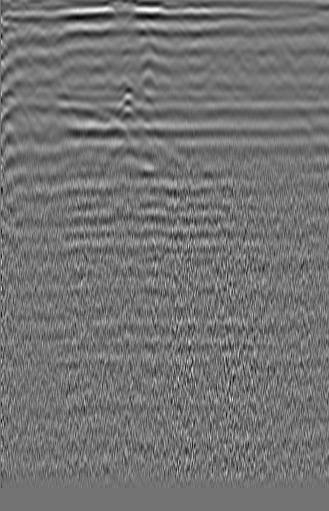가스: (108, 155, 149, 191)
상수: (2, 27, 28, 71)
오수: (291, 45, 321, 79)
우수: (135, 35, 167, 58)
